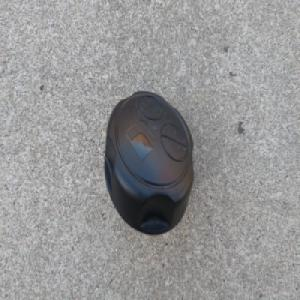FuelCap: (103, 90, 194, 236)
